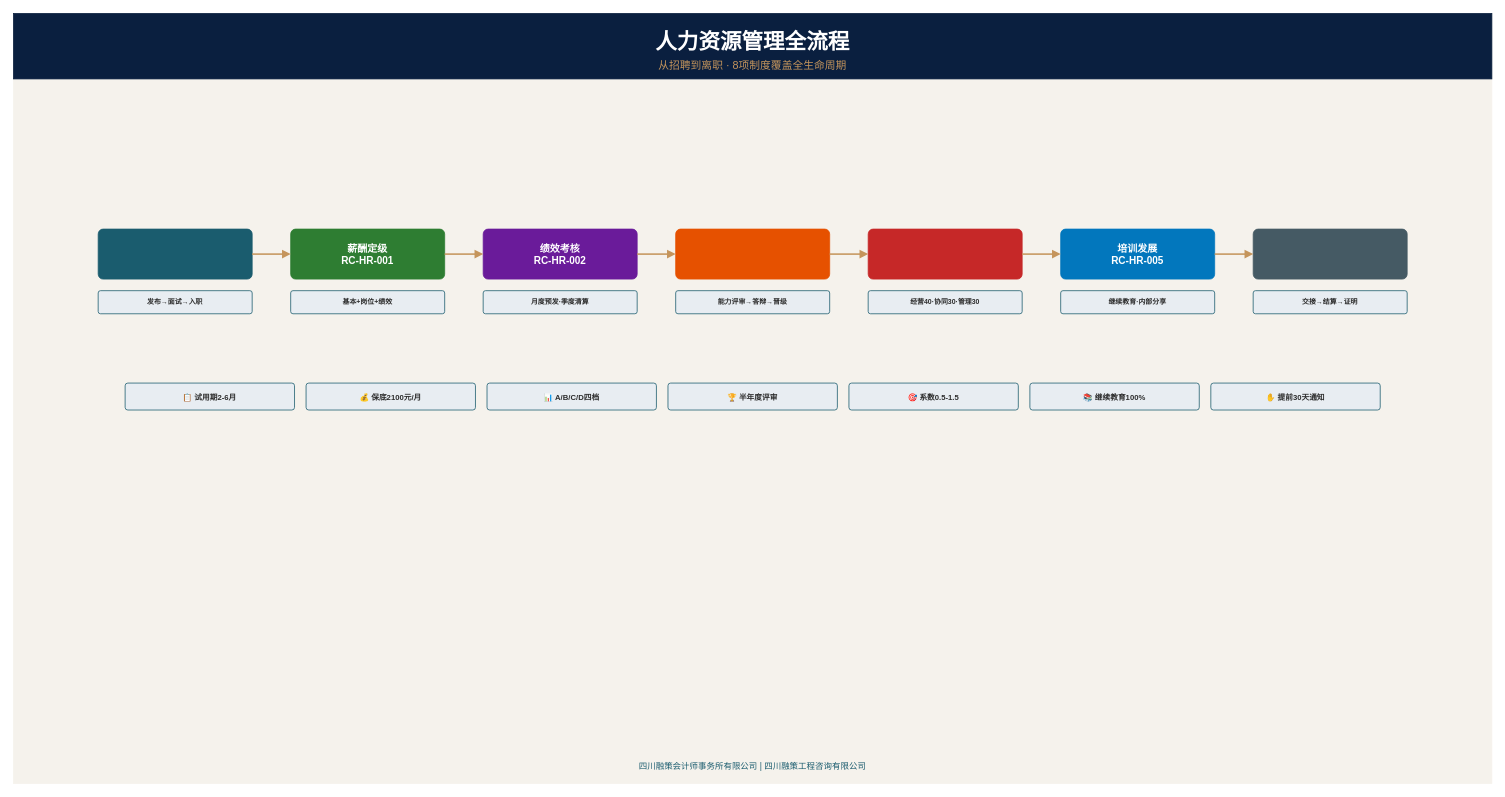
Image size: 1505x797. Some labels were removed from this diagram. Each missing label, with the centre of its shape:
"招聘入职 RC-HR-004" goes at (x=174, y=253).
"离职管理 RC-HR-003" goes at (x=1329, y=253).
"职级晋升 RC-HR-006" goes at (x=752, y=253).
"高管考核 RC-HR-007" goes at (x=944, y=253).
